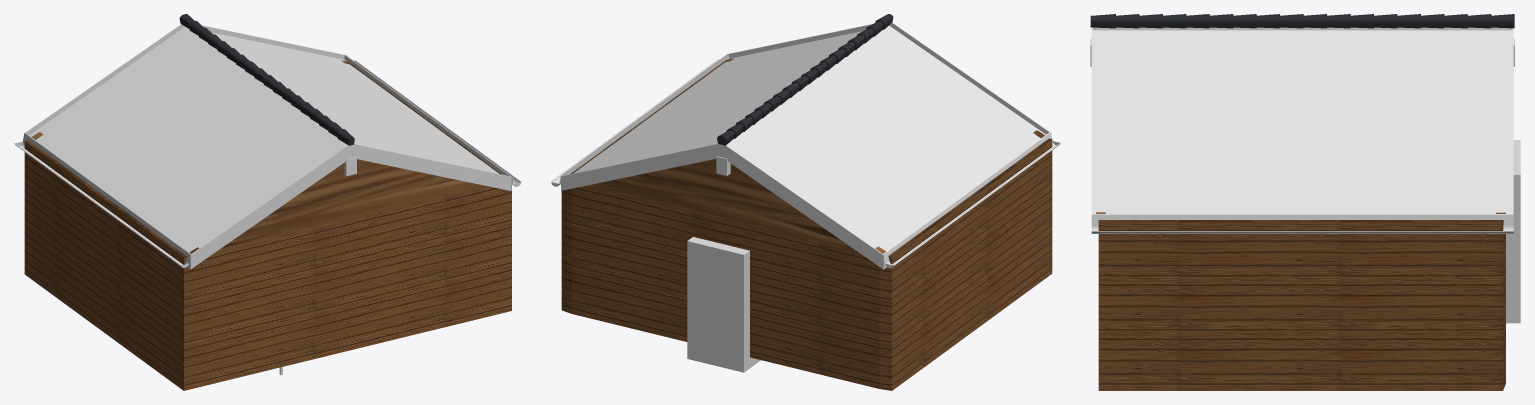
The model's file is 1stroomWithTexture2ndVersion.fbx.
The picture shows the model from 3 angles, left to right: view 1: azimuth 30°, elevation 25°; view 2: azimuth 150°, elevation 25°; view 3: azimuth 270°, elevation 25°; orthographic projection. The views are drawn at different scales.
Parts seen in each view (by area): view 1: Outter Wall, Roof, Outter Wall.001; view 2: Roof, Outter Wall, Cube.001, Outter Wall.002; view 3: Roof, Outter Wall, Cube.001.
Part boxes in pixels (x1,y1,x2,y2): Outter Wall: (24,62,511,390); Roof: (14,14,521,269); Outter Wall.001: (189,159,482,253); Roof: (551,14,1061,269); Outter Wall: (561,59,1052,390); Cube.001: (687,237,760,372); Outter Wall.002: (592,159,886,253); Roof: (1090,14,1514,233); Outter Wall: (1098,220,1505,390); Cube.001: (1506,140,1520,323).
Bounding box in the file's own units: 746 × 501 × 642.
16 materials, 7 textured.
